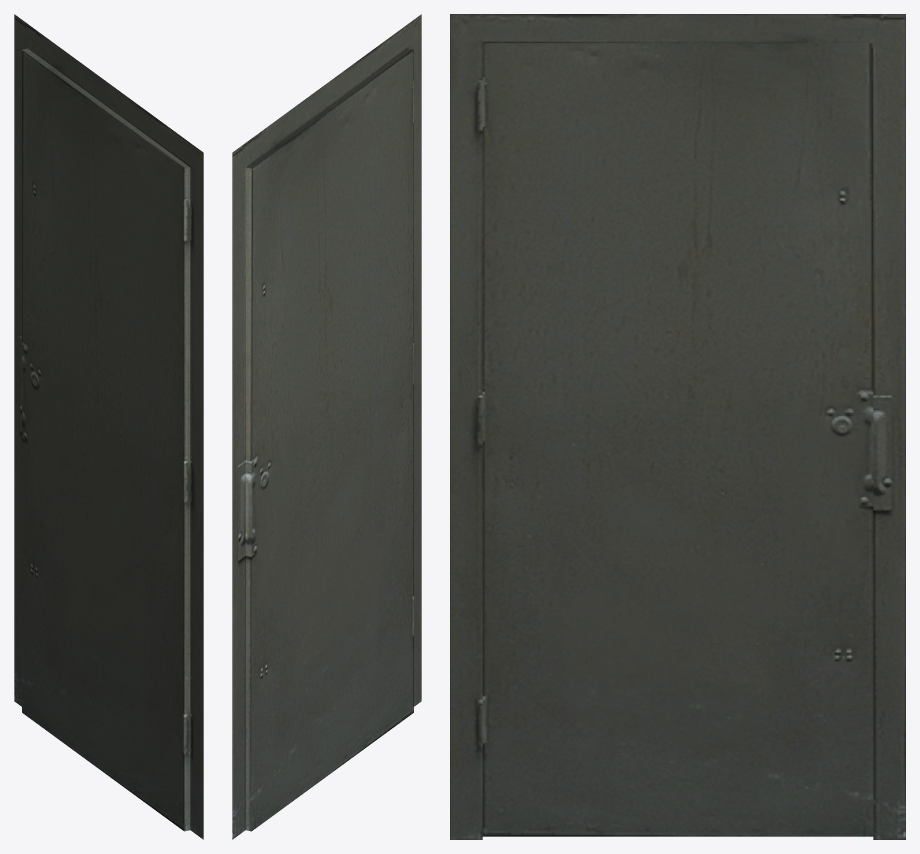
File: closed_grey_door.fbx
3 renders of one model, left to right at view 1: azimuth 30°, elevation 25°; view 2: azimuth 150°, elevation 25°; view 3: azimuth 270°, elevation 25°, orthographic. The views are drawn at different scales.
Parts seen in each view (by area): view 1: closed_grey_door.001; view 2: closed_grey_door.001; view 3: closed_grey_door.001.
Boxes of the visible parts, x1,y1,x2,y2 form: closed_grey_door.001: (14,14,203,839); closed_grey_door.001: (232,14,421,839); closed_grey_door.001: (450,14,905,839).
Bounding box in the file's own units: 0.0255 × 2.86 × 1.43.
1 material, 1 textured.
